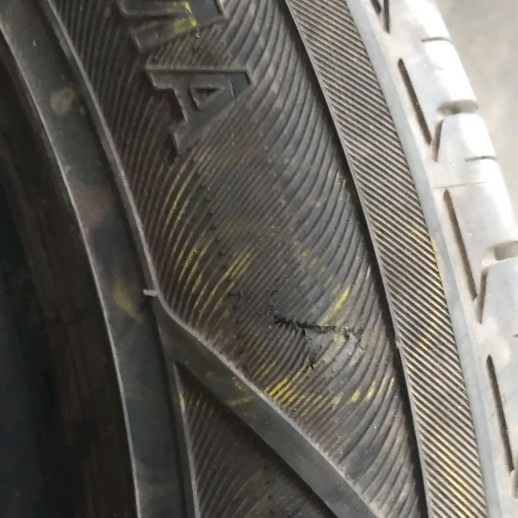cut: (268, 319, 365, 340)
